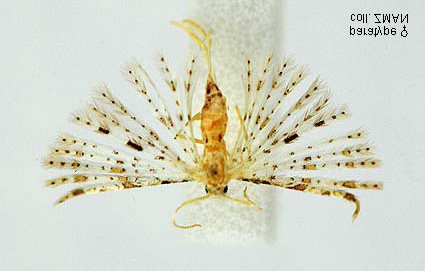Alucitidae: (35, 20, 391, 234)
moth: (37, 22, 393, 236)
